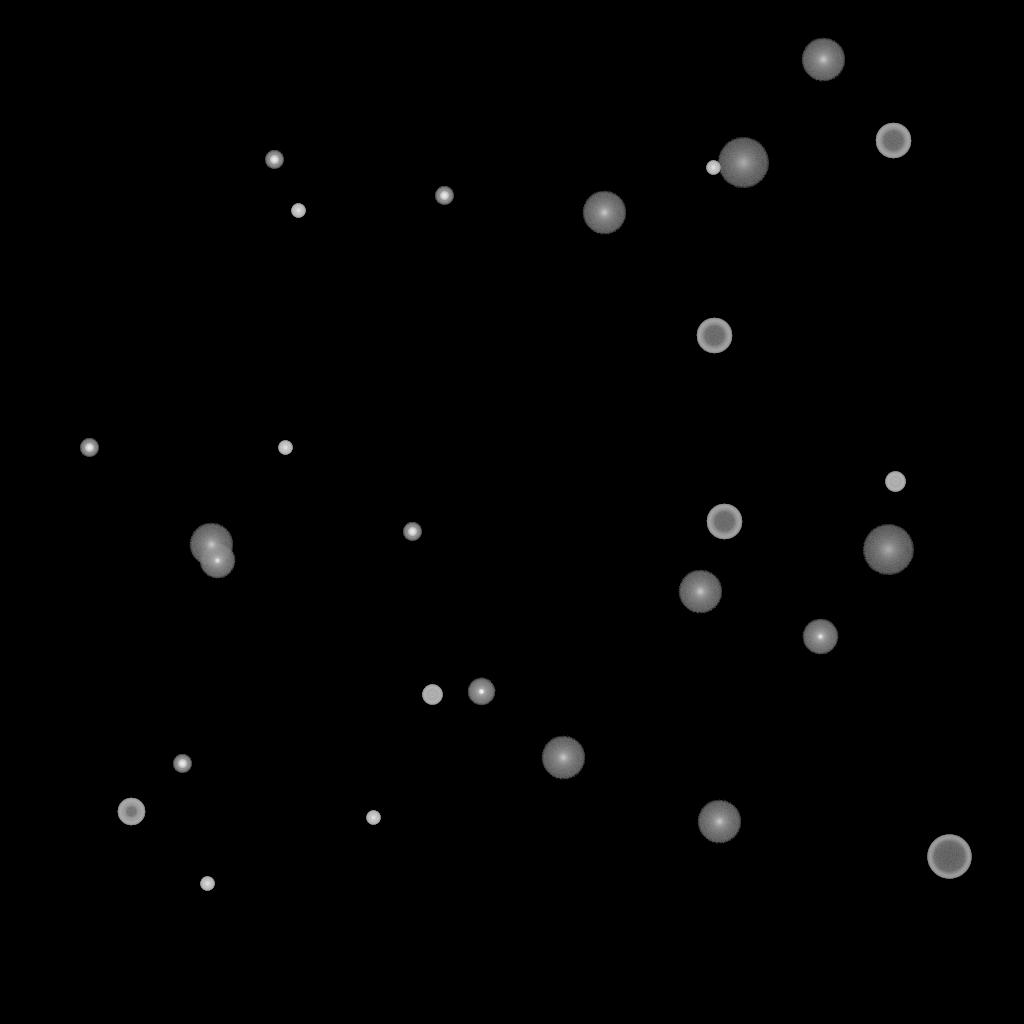depth:-10: (467, 678, 495, 706)
depth:-20: (435, 187, 453, 205), (173, 755, 191, 773), (80, 439, 98, 457), (265, 151, 283, 169), (403, 523, 421, 541)
depth:-30: (278, 441, 292, 455), (291, 204, 305, 218), (200, 877, 214, 891), (366, 811, 380, 825), (706, 161, 720, 175)
depth:-40: (885, 472, 905, 492), (422, 685, 442, 705)
depth:-50: (117, 798, 145, 826)
depth:-60: (706, 504, 742, 540), (875, 123, 911, 159), (696, 318, 732, 354)
depth:-70: (927, 835, 971, 879)
depth:0: (802, 619, 838, 655), (199, 543, 235, 579)
depth:10: (541, 736, 585, 780), (697, 800, 741, 844), (801, 38, 845, 82), (189, 523, 233, 567), (678, 570, 722, 614), (582, 191, 626, 235)
depth:20: (862, 525, 914, 575), (717, 138, 769, 188)
